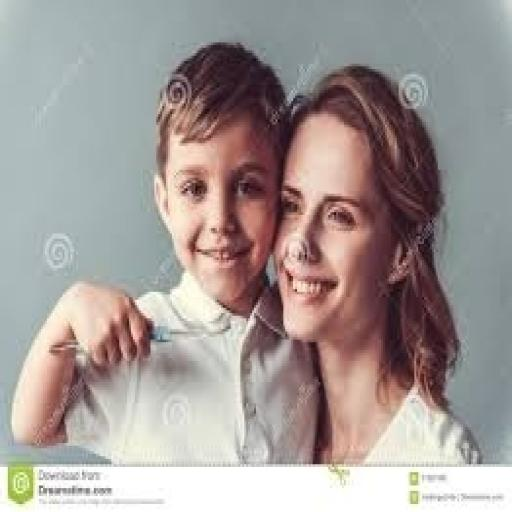hugging: (8, 37, 299, 467), (258, 61, 485, 467)
